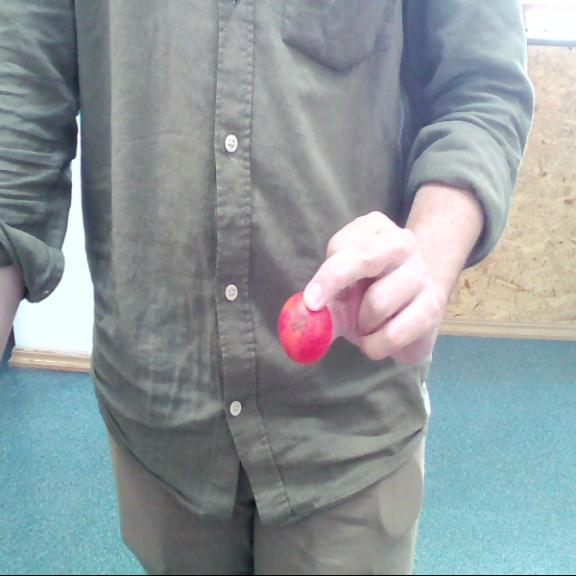ball: (278, 288, 333, 363)
